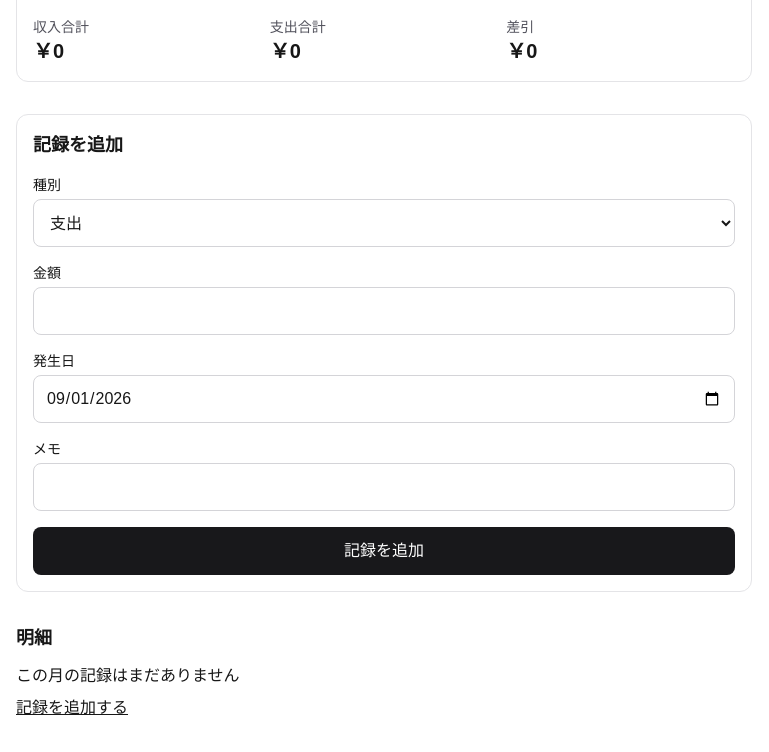
Test case: TransactionForm › ラベルがあり検証失敗は入力近くに出す
(page scrolled)
Expected: the dropdown labelled "種別" is shown, [33,199,735,247]
Expected: the number field labelled "金額" is shown, [33,287,735,335]
Click the button "記録を追加".
click(384, 551)  # box [33,527,735,575]
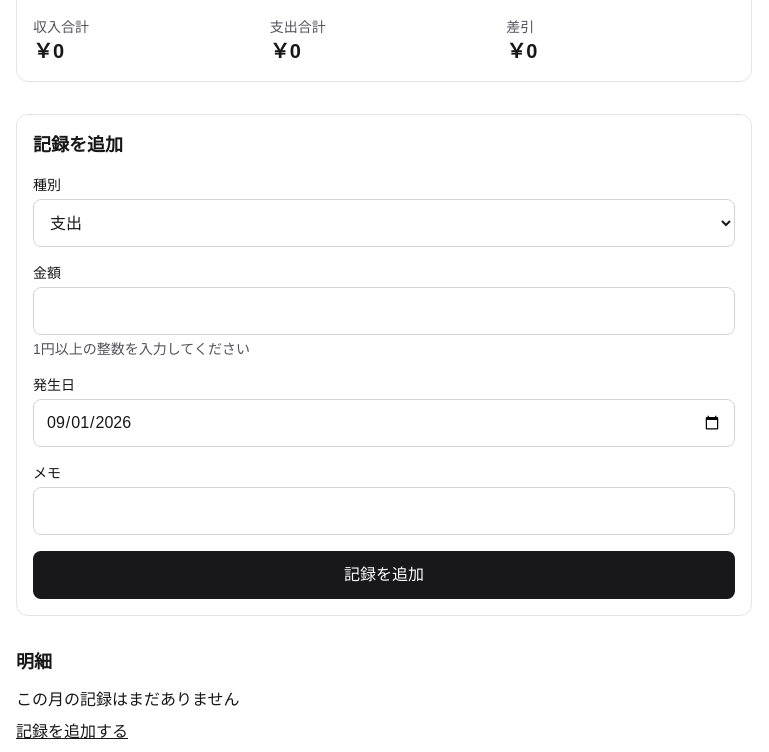
Expected: the text "1円以上の整数を入力してください" is shown, [33,341,250,357]
